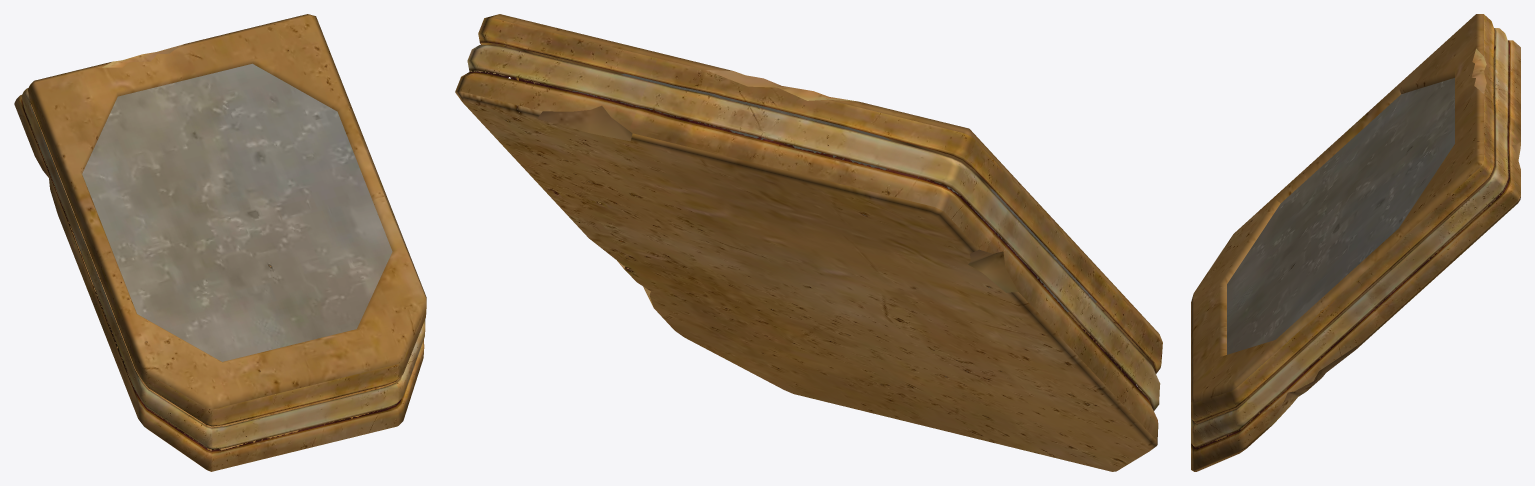
3 views of the same model, side by side, from view 1: azimuth 30°, elevation 25°; view 2: azimuth 150°, elevation 25°; view 3: azimuth 270°, elevation 25° (orthographic). The views are drawn at different scales.
Parts seen in each view (by area): view 1: SM_Vault_Mirror_Button_Plinth_Stone_01_LOD0; view 2: SM_Vault_Mirror_Button_Plinth_Stone_01_LOD0; view 3: SM_Vault_Mirror_Button_Plinth_Stone_01_LOD0.
Boxes of the visible parts, x1,y1,x2,y2 form: SM_Vault_Mirror_Button_Plinth_Stone_01_LOD0: (14, 14, 426, 471); SM_Vault_Mirror_Button_Plinth_Stone_01_LOD0: (455, 14, 1162, 471); SM_Vault_Mirror_Button_Plinth_Stone_01_LOD0: (1191, 14, 1520, 471).
Size of the model in its own units: 0.7968 by 0.8164 by 0.73.
Materials: 2 (2 with a texture image).
